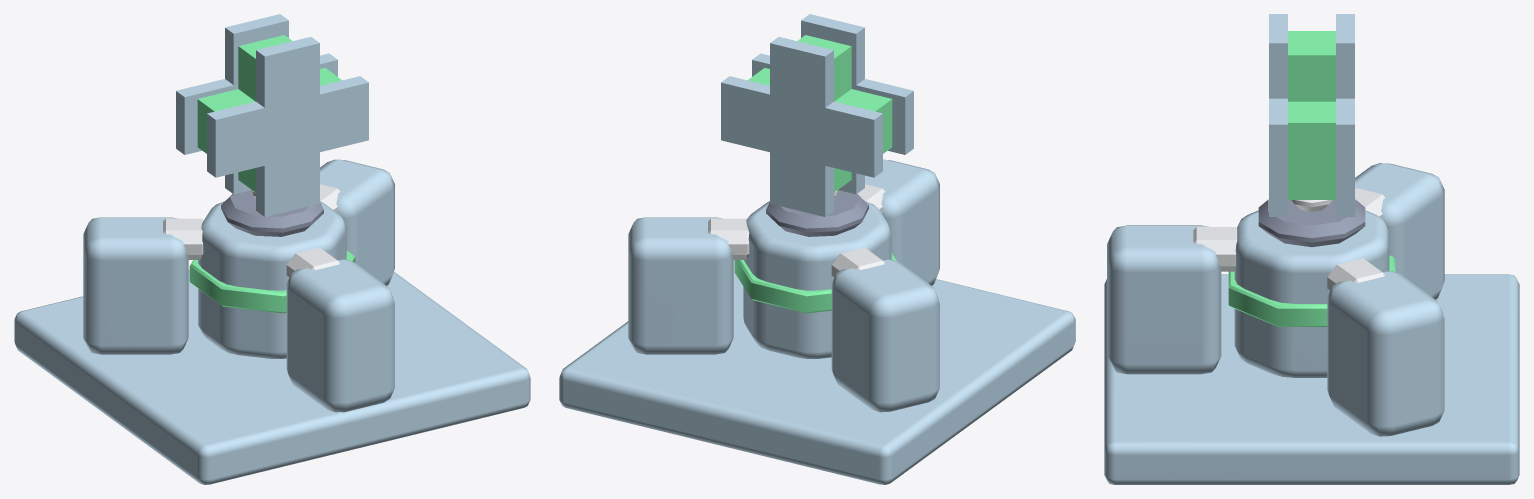
Rendered from R4X_RepairTurretDeployer.fbx.
3 renders of one model, left to right at view 1: azimuth 30°, elevation 25°; view 2: azimuth 150°, elevation 25°; view 3: azimuth 270°, elevation 25°, orthographic. The views are drawn at different scales.
Parts seen in each view (by area): view 1: R4X_RepairTurretDeployer_Body, R4X_RepairTurretDeployer_Pod; view 2: R4X_RepairTurretDeployer_Body, R4X_RepairTurretDeployer_Pod; view 3: R4X_RepairTurretDeployer_Body, R4X_RepairTurretDeployer_Pod.
Boxes of the visible parts, x1,y1,x2,y2 form: R4X_RepairTurretDeployer_Body: (14,159,530,484); R4X_RepairTurretDeployer_Pod: (176,14,368,358); R4X_RepairTurretDeployer_Body: (559,159,1075,484); R4X_RepairTurretDeployer_Pod: (721,14,913,358); R4X_RepairTurretDeployer_Body: (1104,163,1519,484); R4X_RepairTurretDeployer_Pod: (1228,14,1395,377).
Size of the model in its own units: 0.52 by 0.515 by 0.52.
